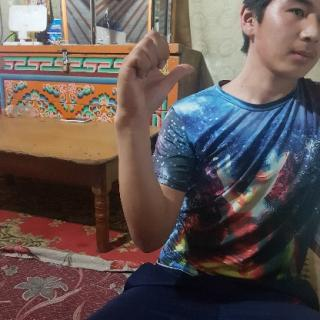WAW: (114, 28, 198, 123)
